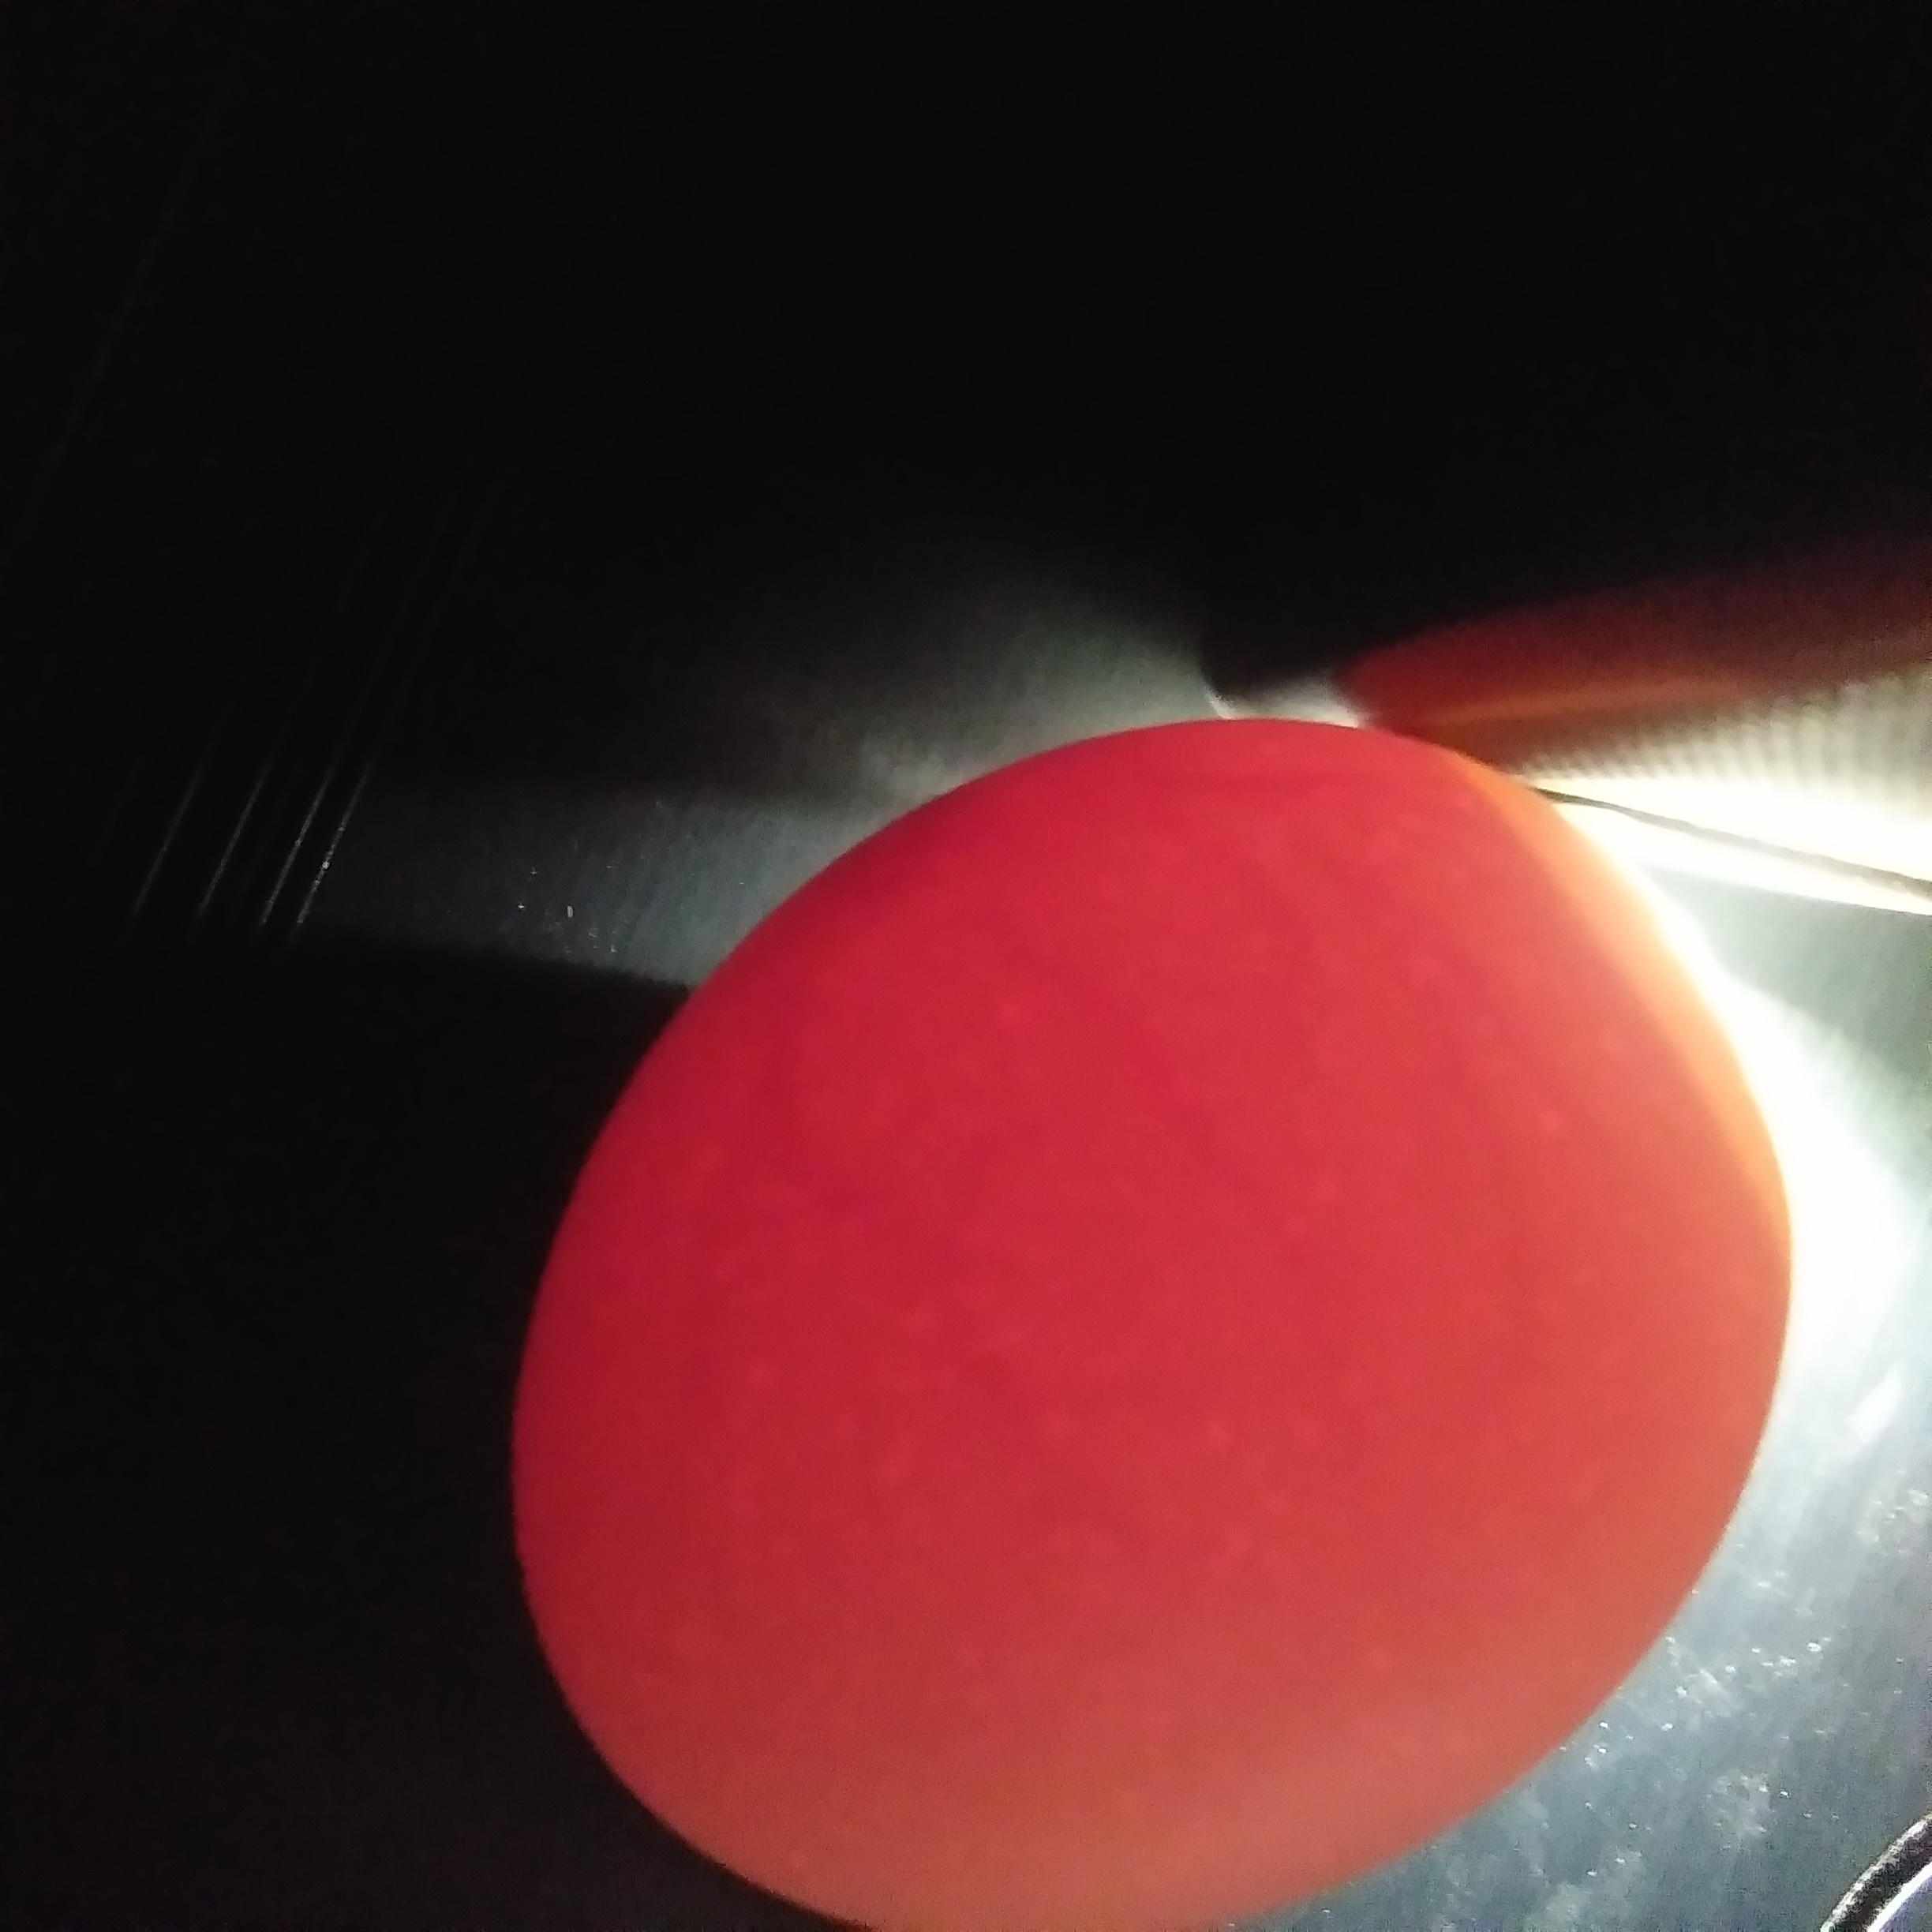bloodcell: (908, 858, 1583, 1311)
